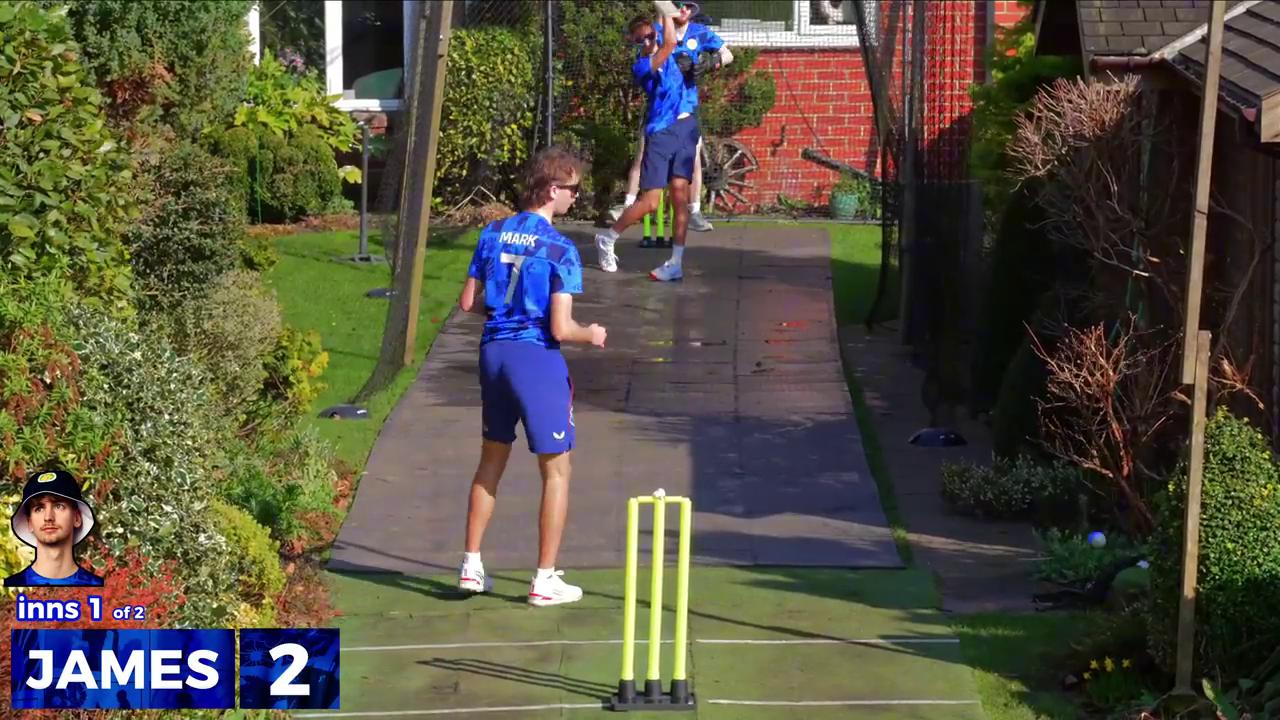ball: (1089, 523, 1114, 556)
